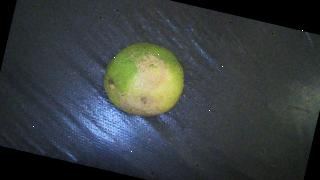DESECHO: (97, 35, 191, 124)
